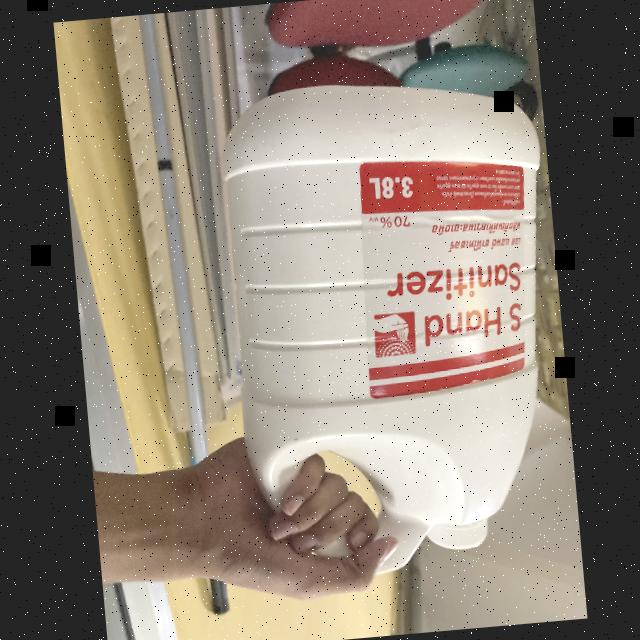chemical_plastic_gallon: (213, 69, 573, 586)
